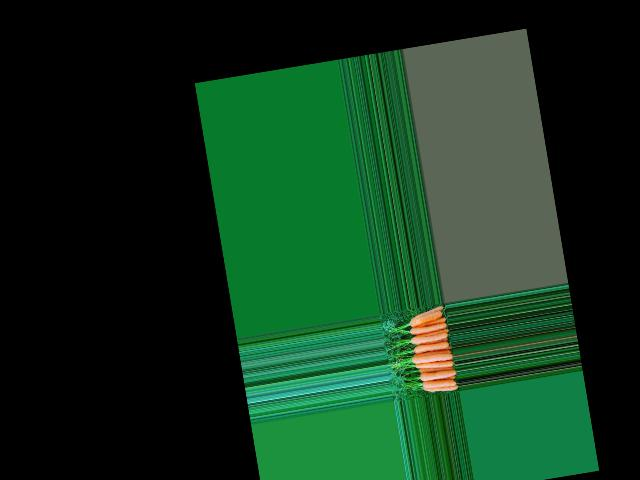carrot: (424, 382, 459, 393)
